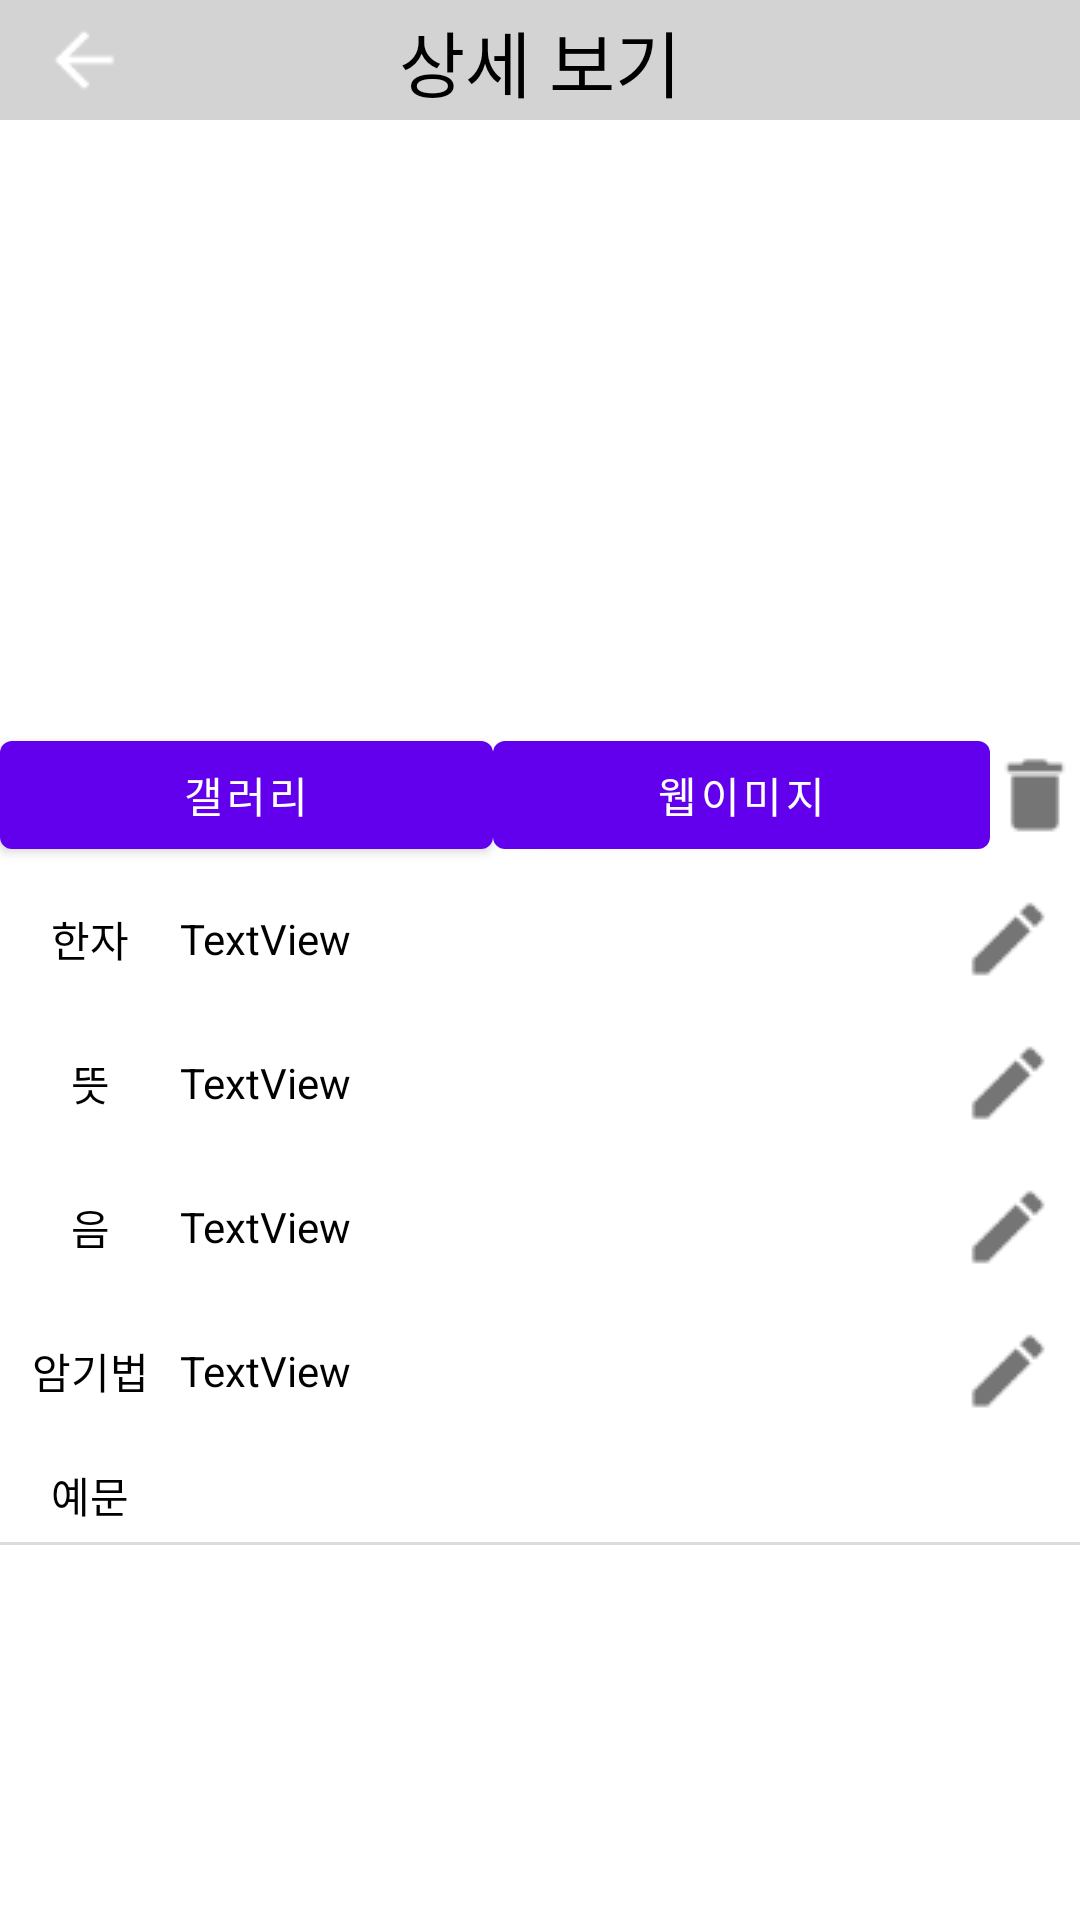

Locate icon controls on the screen. Image size 1080 x 1920, boxes as region(x1, y1, x2, y2).
arrow back: region(57, 33, 113, 88)
delete: region(1006, 758, 1064, 832)
edit: region(971, 902, 1045, 976), region(971, 1046, 1045, 1120), region(971, 1190, 1045, 1264), region(971, 1334, 1045, 1408)
